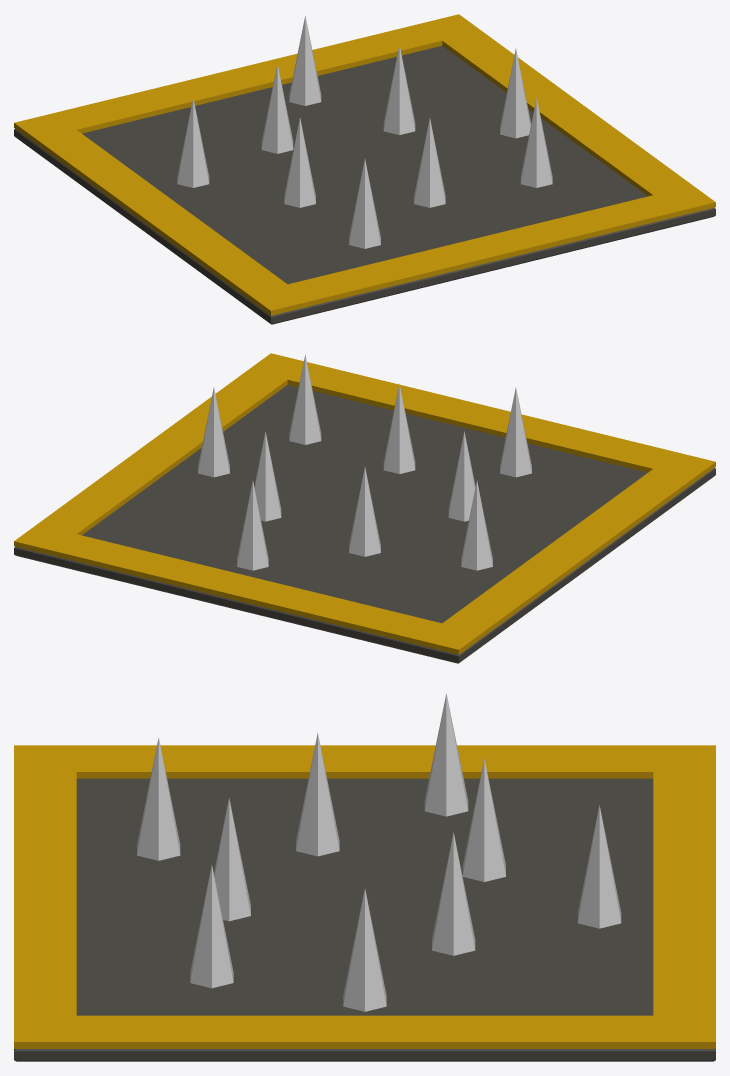
Rendered from trap.fbx.
3 renders of one model, top to bottom at view 1: azimuth 30°, elevation 25°; view 2: azimuth 150°, elevation 25°; view 3: azimuth 270°, elevation 25°, orthographic. The views are drawn at different scales.
Visible parts, largest first — view 1: trap, Spikes; view 2: trap, Spikes; view 3: trap, Spikes.
Boxes of the visible parts, bbox=[...] form: trap: bbox=[14, 14, 715, 324]; Spikes: bbox=[177, 16, 552, 248]; trap: bbox=[14, 353, 715, 663]; Spikes: bbox=[198, 355, 531, 570]; trap: bbox=[14, 745, 715, 1061]; Spikes: bbox=[137, 693, 621, 1011].
Bounding box in the file's own units: 2.8 × 0.56 × 2.8.
